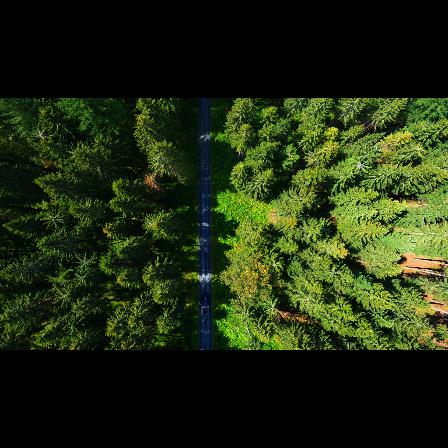Sick: (40, 204, 68, 231), (50, 283, 78, 307), (26, 122, 54, 146), (72, 250, 98, 273), (350, 155, 371, 176), (262, 296, 282, 318), (72, 270, 93, 287)
